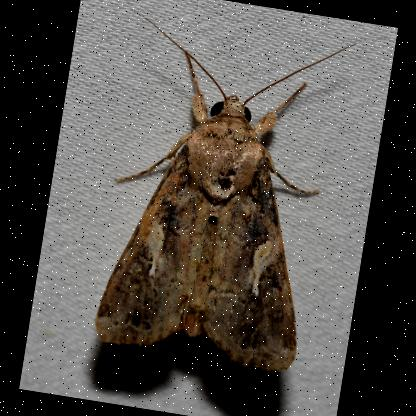Fall Armyworm Moth: (85, 6, 361, 380)
